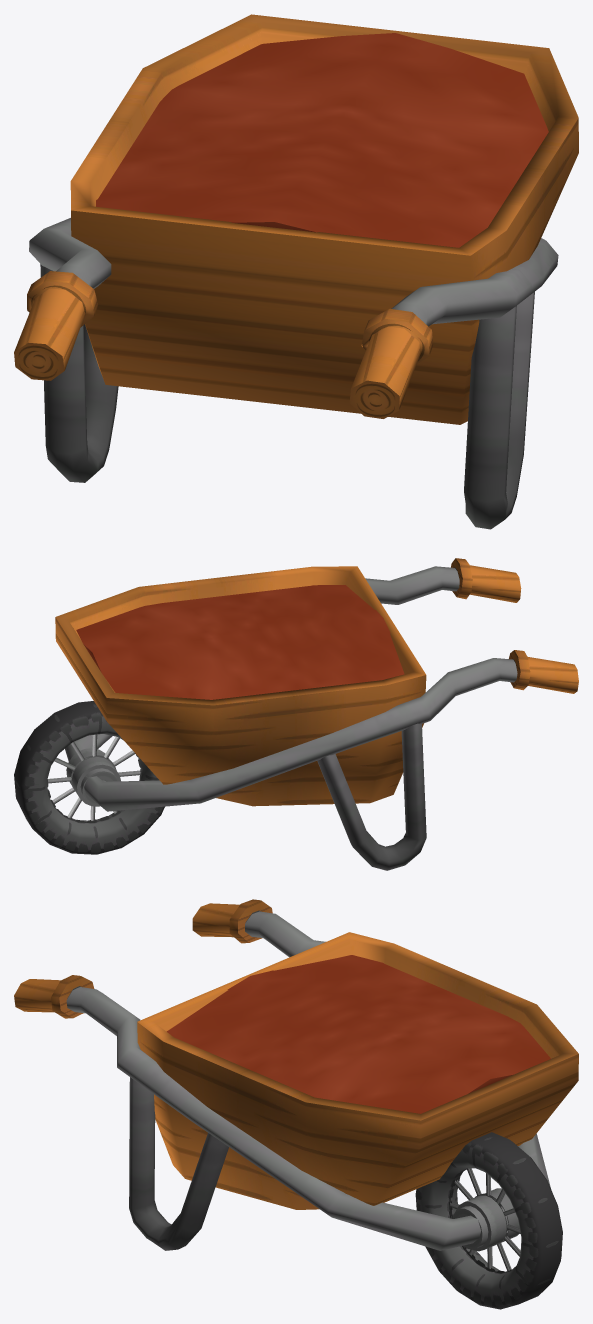
Rendered from WheelbarrowFlowerBedHand.fbx.
3 views of the same model, one above another, from view 1: azimuth 30°, elevation 25°; view 2: azimuth 150°, elevation 25°; view 3: azimuth 270°, elevation 25° (orthographic). The views are drawn at different scales.
Visible parts, largest first — view 1: BikeHandleBar (2), DirtMesh (1); view 2: BikeHandleBar (2), DirtMesh (1), Wheel; view 3: BikeHandleBar (2), DirtMesh (1), Wheel.
Part boxes in pixels (x1=…): BikeHandleBar (2): x1=14, y1=14, x2=578, y2=529; DirtMesh (1): x1=96, y1=33, x2=548, y2=247; BikeHandleBar (2): x1=55, y1=558, x2=578, y2=870; DirtMesh (1): x1=76, y1=585, x2=404, y2=699; Wheel: x1=14, y1=701, x2=164, y2=854; BikeHandleBar (2): x1=14, y1=899, x2=578, y2=1250; DirtMesh (1): x1=166, y1=955, x2=550, y2=1113; Wheel: x1=415, y1=1132, x2=562, y2=1309.
Size of the model in its own units: 1.08 by 0.4746 by 1.08.
